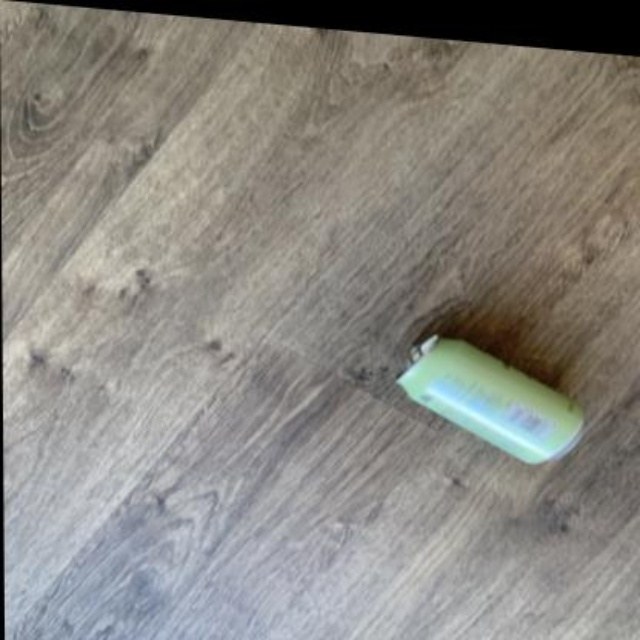trash: (397, 335, 582, 462)
